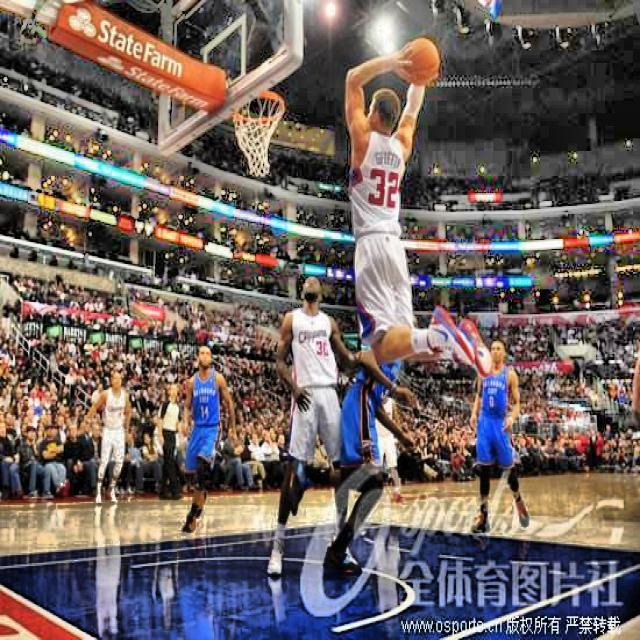rim: (232, 90, 285, 176)
